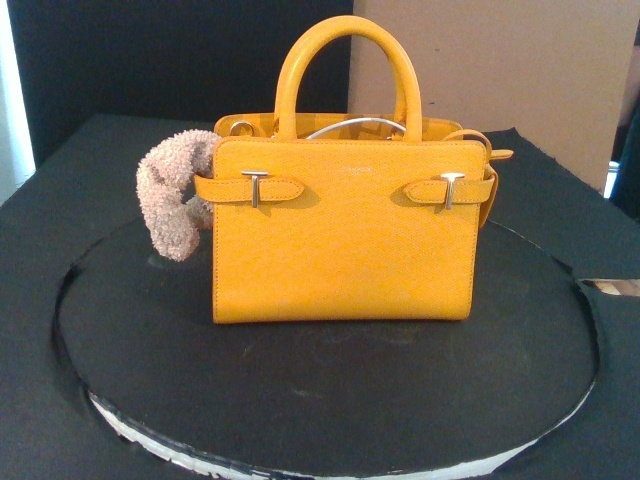bag: (212, 15, 486, 325)
